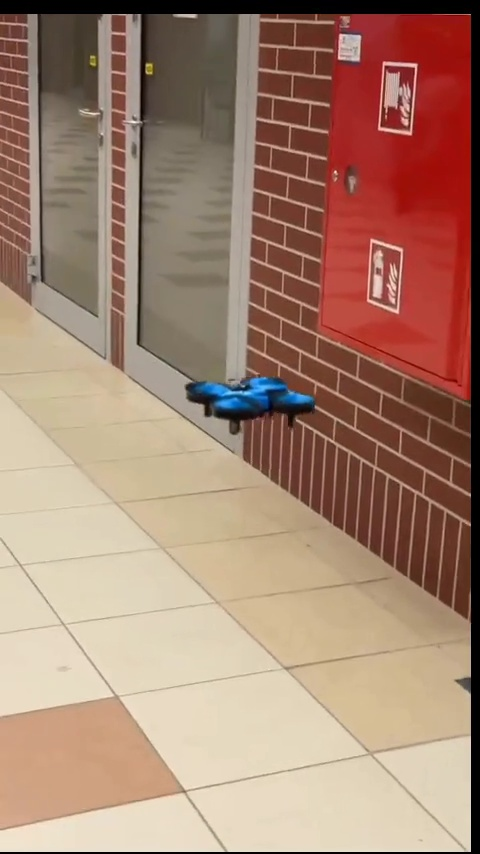drone: (183, 376, 325, 434)
